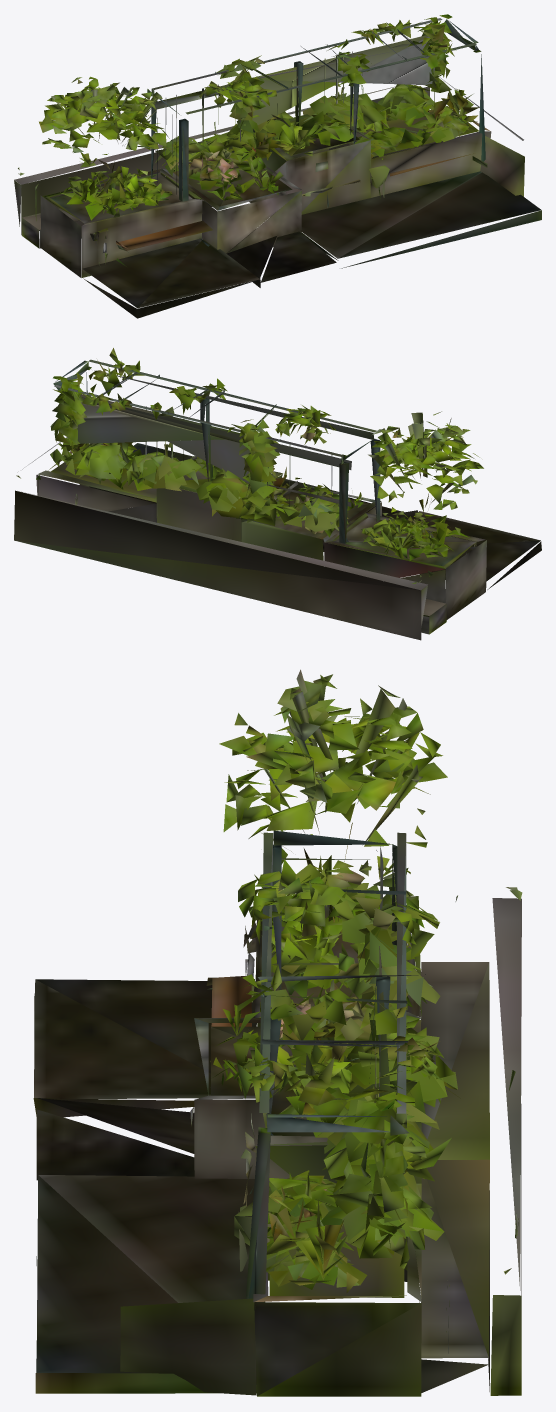
Rendered from garden-far.glb.
3 renders of one model, top to bottom at view 1: azimuth 30°, elevation 25°; view 2: azimuth 150°, elevation 25°; view 3: azimuth 270°, elevation 25°, orthographic. The views are drawn at different scales.
Visible parts, largest first — view 1: garden; view 2: garden; view 3: garden.
Boxes of the visible parts, x1,y1,x2,y2 form: garden: (14,14,541,318); garden: (14,348,541,640); garden: (33,669,522,1396).
Bounding box in the file's own units: 8.97 × 3.63 × 4.5.
Materials: 1 (1 with a texture image).
